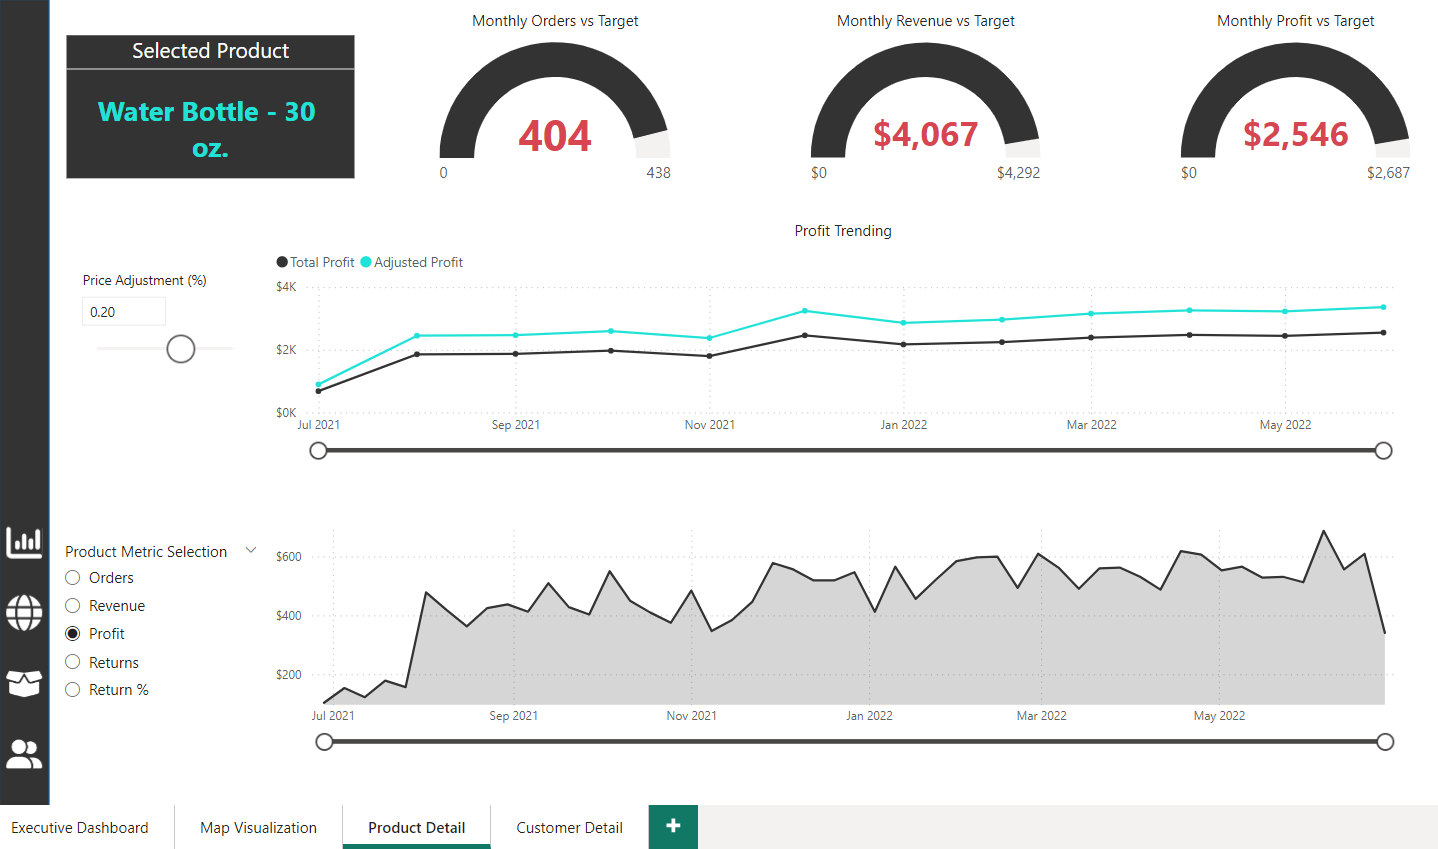

Layout of this report page (visuals, bound fields, positions):
{"tool":"powerbi","page":{"name":"Product Detail","canvas":[1280,720],"ordinal":2},"visuals":[{"type":"shape","box":[0,0,45,720],"z":0},{"type":"actionButton","box":[0,463.8,45,40],"z":0,"group":"g1"},{"type":"gauge","title":"Monthly Orders vs Target","fields":{"Y":["Measure Table.Total Orders"],"MaxValue":["Measure Table.Order Target"]},"box":[387.1,10,215.7,170],"z":1000},{"type":"actionButton","box":[0,526.3,45,40],"z":1000,"group":"g1"},{"type":"gauge","title":"Monthly Revenue vs Target","fields":{"Y":["Measure Table.Total Revenue"],"MaxValue":["Measure Table.Revenue Target"]},"box":[717.1,10,214.3,170],"z":2000},{"type":"actionButton","box":[0,588.8,45,40],"z":2000,"group":"g1"},{"type":"gauge","title":"Monthly Profit vs Target","fields":{"Y":["Measure Table.Total Profit"],"MaxValue":["Measure Table.Profit Target"]},"box":[1045.7,10,214.3,170],"z":3000},{"type":"actionButton","box":[0,651.3,45,40],"z":3000,"group":"g1"},{"type":"lineChart","title":"Profit Trending","fields":{"Category":["Calendar Lookup.Date Hierarchy.Start of Year","Calendar Lookup.Date Hierarchy.Start of Month","Calendar Lookup.Date Hierarchy.Start of Week","Calendar Lookup.Date Hierarchy.Date"],"Y":["Measure Table.Total Profit","Measure Table.Adjusted Profit"]},"box":[241.2,196.2,1018.8,215],"z":4000},{"type":"areaChart","title":"Return Trending","fields":{"Y":["Measure Table.Total Orders"],"Category":["Calendar Lookup.Date Hierarchy.Start of Year","Calendar Lookup.Date Hierarchy.Start of Month","Calendar Lookup.Date Hierarchy.Start of Week","Calendar Lookup.Date Hierarchy.Date"]},"box":[241.2,455,1020,215],"z":5000},{"type":"card","title":"Selected Product","fields":{"Values":["Min(Product Lookup.ProductName)"]},"box":[60,32.5,256.2,127.5],"z":6000},{"type":"group","id":"g1","title":"Navigation Buttons","box":[0,463.8,45,227.5],"z":7000},{"type":"slicer","fields":{"Values":["Price Adjustment (%).Price Adjustment (%)"]},"box":[61.2,236.2,170,137.5],"z":8000},{"type":"slicer","fields":{"Values":["Product Metric Selection.Product Metric Selection"]},"box":[45,476.2,196.2,172.5],"z":9000}]}

Visuals, with their boxes on the page's 1280x720 design canvas (x1, y1, x2, y2). These are canvas units, not pixel positions in the 1438x849 screenshot, which may show the page scaled, cropped or inside an application window:
shape: bbox=(0, 0, 45, 720)
actionButton: bbox=(0, 464, 45, 504)
"Monthly Orders vs Target" gauge: bbox=(387, 10, 603, 180)
actionButton: bbox=(0, 526, 45, 566)
"Monthly Revenue vs Target" gauge: bbox=(717, 10, 931, 180)
actionButton: bbox=(0, 589, 45, 629)
"Monthly Profit vs Target" gauge: bbox=(1046, 10, 1260, 180)
actionButton: bbox=(0, 651, 45, 691)
"Profit Trending" lineChart: bbox=(241, 196, 1260, 411)
"Return Trending" areaChart: bbox=(241, 455, 1261, 670)
"Selected Product" card: bbox=(60, 32, 316, 160)
"Navigation Buttons" group: bbox=(0, 464, 45, 691)
slicer - Price Adjustment (%).Price Adjustment (%): bbox=(61, 236, 231, 374)
slicer - Product Metric Selection.Product Metric Selection: bbox=(45, 476, 241, 649)
